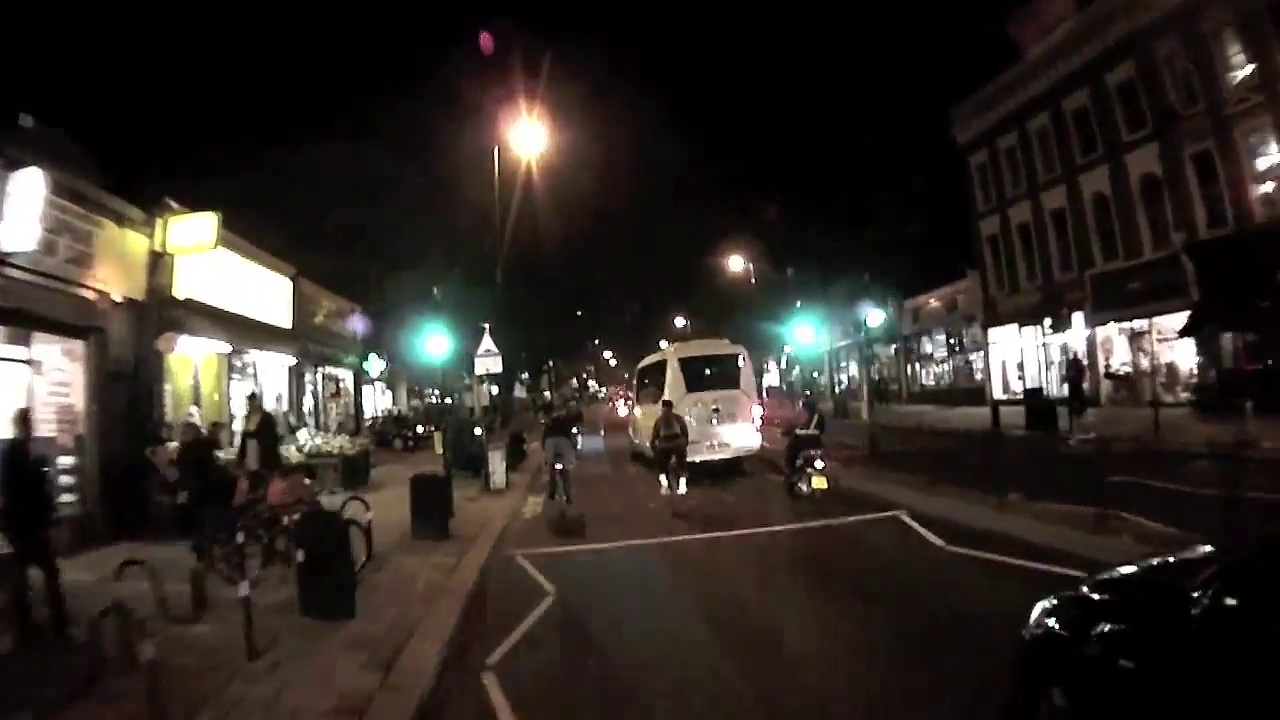cyclist_back: (768, 390, 837, 511), (533, 404, 589, 529), (641, 398, 693, 520)
